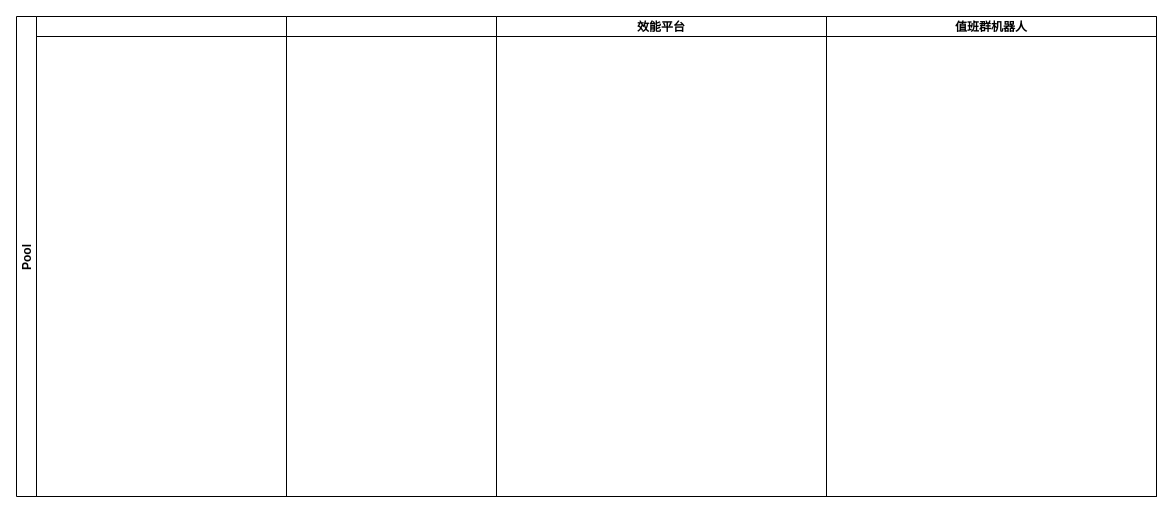
Image size: 1173x513. Some labels were removed from this diagram. Each missing label, with the centre of its shape:
业务: the point at 161,256
业务群机器人: the point at 391,256
